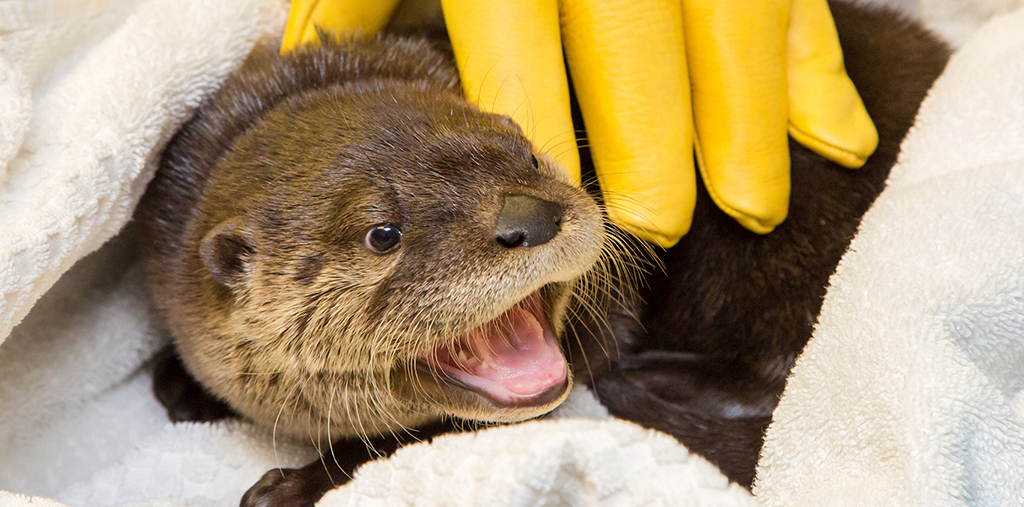otter: (121, 27, 640, 507)
